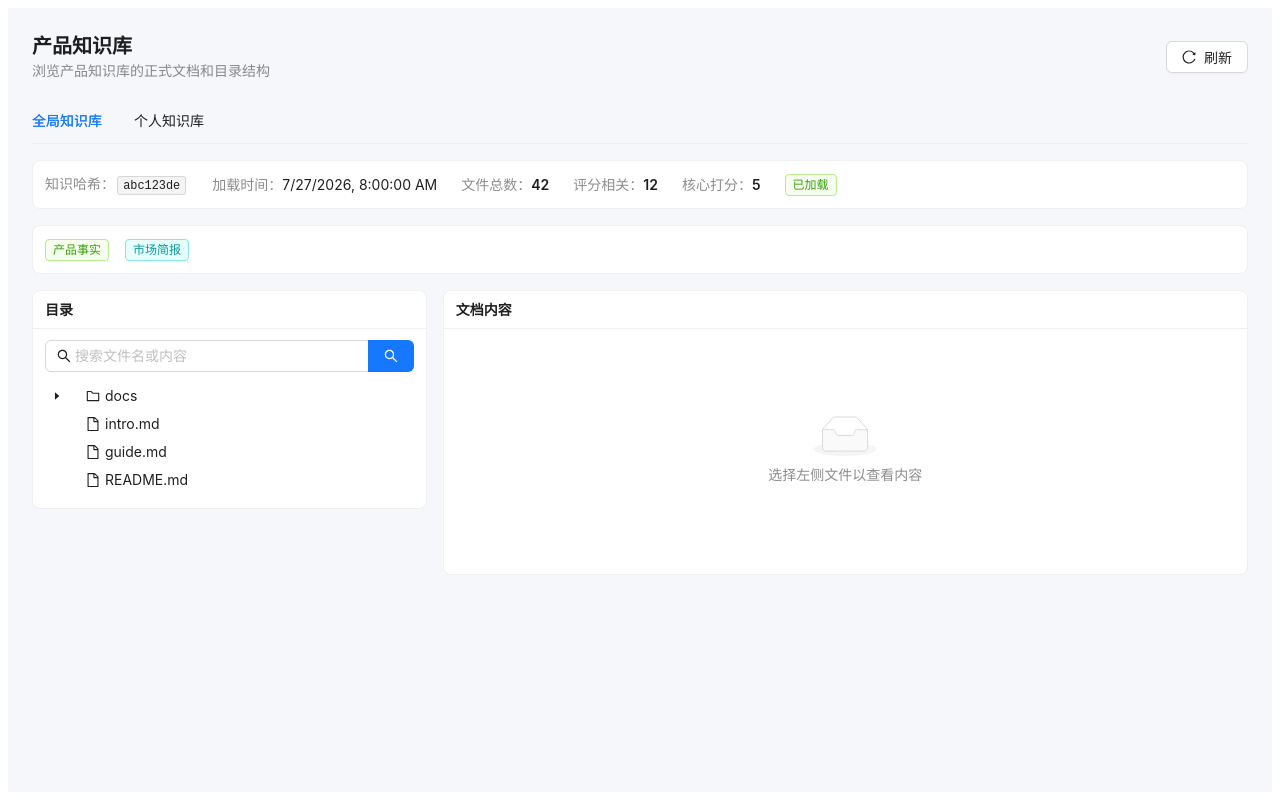
Test case: ProductKnowledgePage › loads document content when a file is clicked
This screenshot has width=1280, height=800.
Click the text "intro.md": (132, 424) [105,415,160,432]
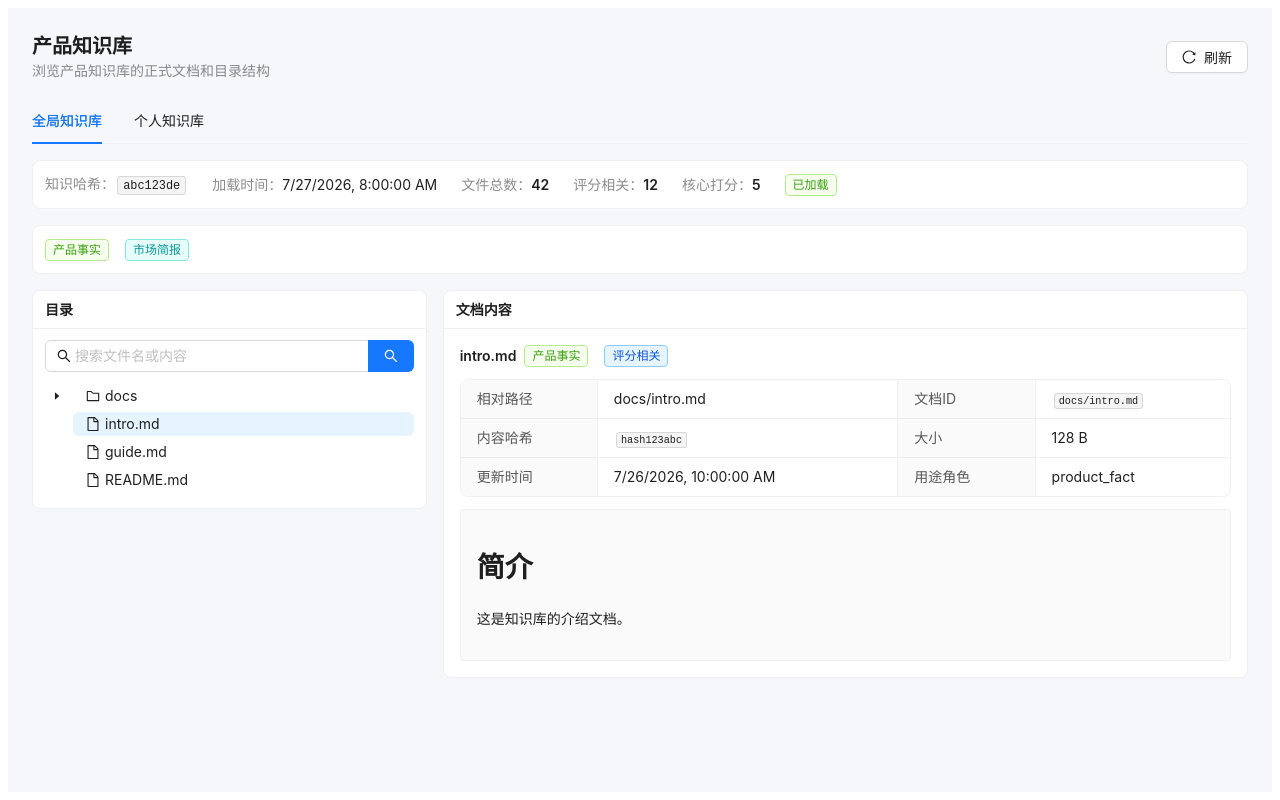
Result: the heading "简介" is shown at [477,550,533,584]
Result: the text "这是知识库的介绍文档。" is shown at [477,610,631,627]
